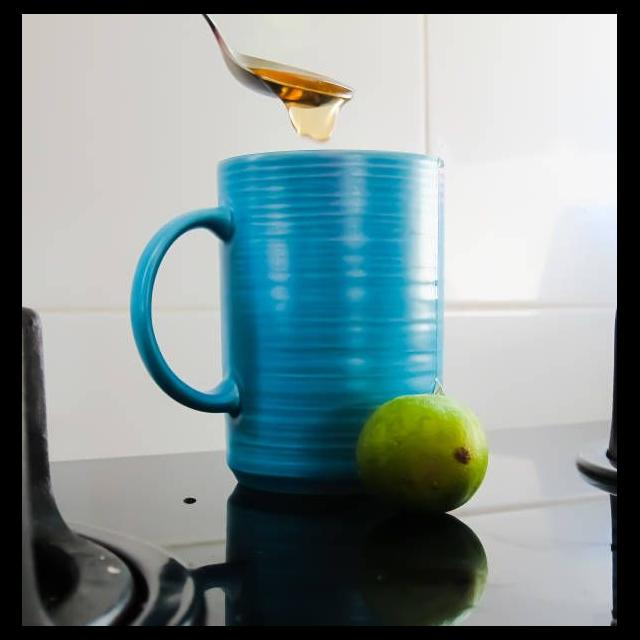lime: (349, 388, 495, 523)
